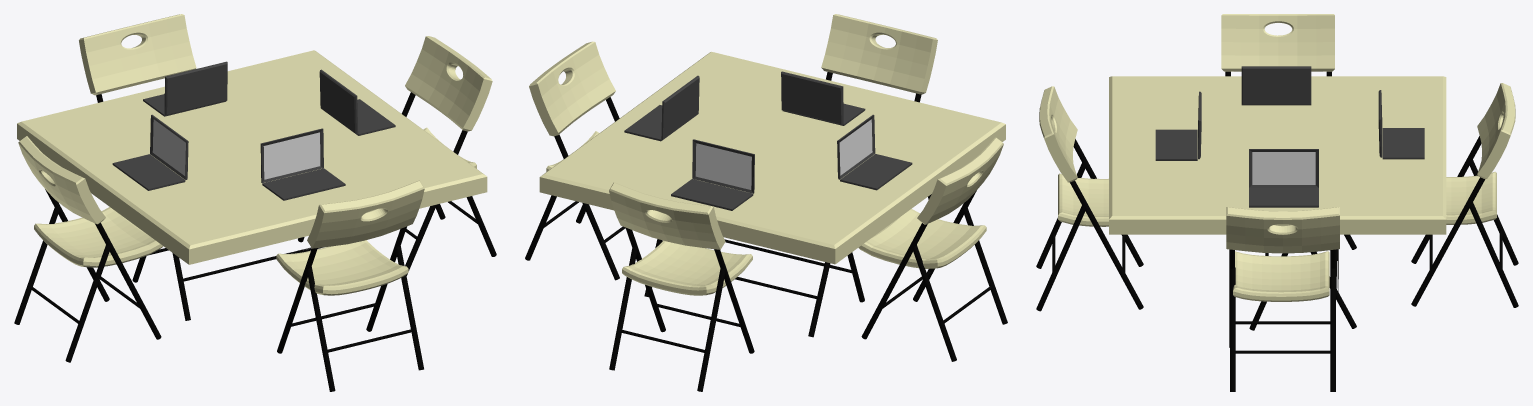
File: Mesa Simple.fbx
3 renders of one model, left to right at view 1: azimuth 30°, elevation 25°; view 2: azimuth 150°, elevation 25°; view 3: azimuth 270°, elevation 25°, orthographic. The views are drawn at different scales.
Parts seen in each view (by area): view 1: Cube.005; view 2: Cube.005; view 3: Cube.005.
Part boxes in pixels (box(x1,y1,x2,y2)): Cube.005: box(14, 14, 496, 391); Cube.005: box(525, 14, 1007, 391); Cube.005: box(1036, 14, 1518, 391).
Bounding box in the file's own units: 576 × 236 × 568.
